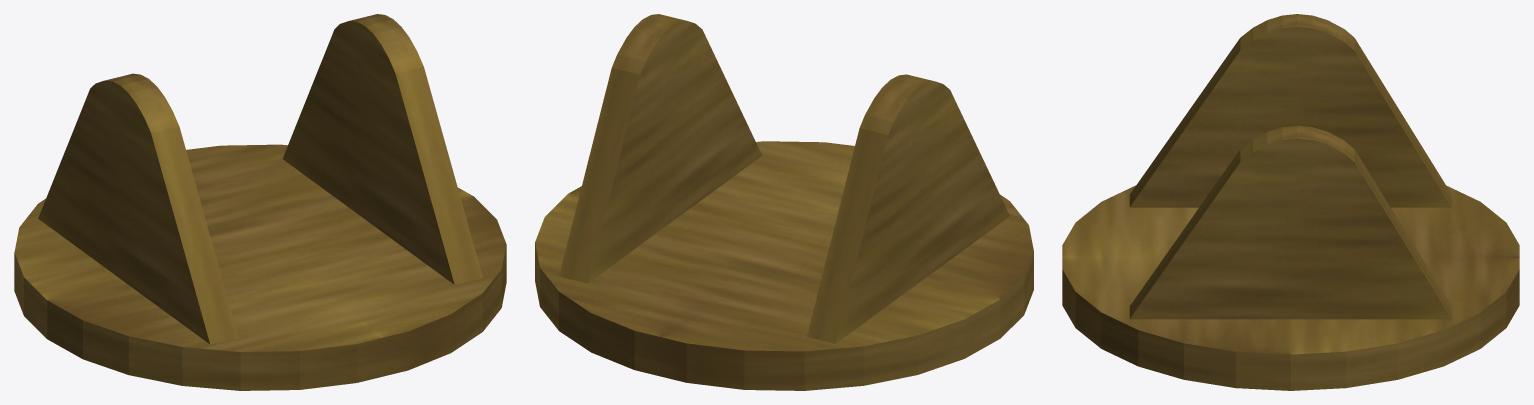
3 renders of one model, left to right at view 1: azimuth 30°, elevation 25°; view 2: azimuth 150°, elevation 25°; view 3: azimuth 270°, elevation 25°, orthographic. The views are drawn at different scales.
Parts seen in each view (by area): view 1: BaseCaps, BaseSide, 2BaseSides, BaseSideTop; view 2: BaseCaps, BaseSide, 2BaseSides, BaseSideTop, Col; view 3: BaseSide, BaseCaps, 2BaseSides, BaseSideTop.
Boxes of the visible parts, x1,y1,x2,y2 form: BaseCaps: (14, 144, 506, 351); BaseSide: (38, 21, 454, 343); 2BaseSides: (14, 244, 506, 390); BaseSideTop: (105, 14, 482, 344); BaseCaps: (535, 141, 1033, 351); BaseSide: (588, 21, 1009, 343); 2BaseSides: (535, 242, 1033, 390); BaseSideTop: (559, 14, 934, 343); Col: (964, 303, 1000, 357); BaseSide: (1130, 27, 1451, 319); BaseCaps: (1062, 185, 1519, 354); 2BaseSides: (1062, 269, 1519, 390); BaseSideTop: (1129, 14, 1451, 318).
Size of the model in its own units: 1.74 by 0.9066 by 1.73.
1 material, 1 textured.
